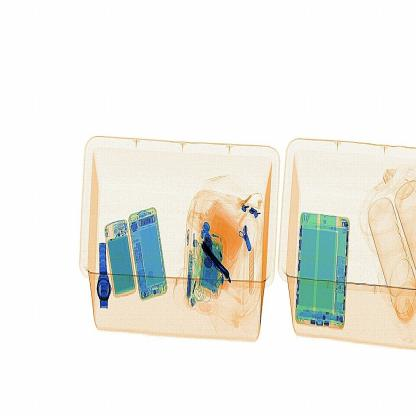knife: (202, 242, 232, 288)
